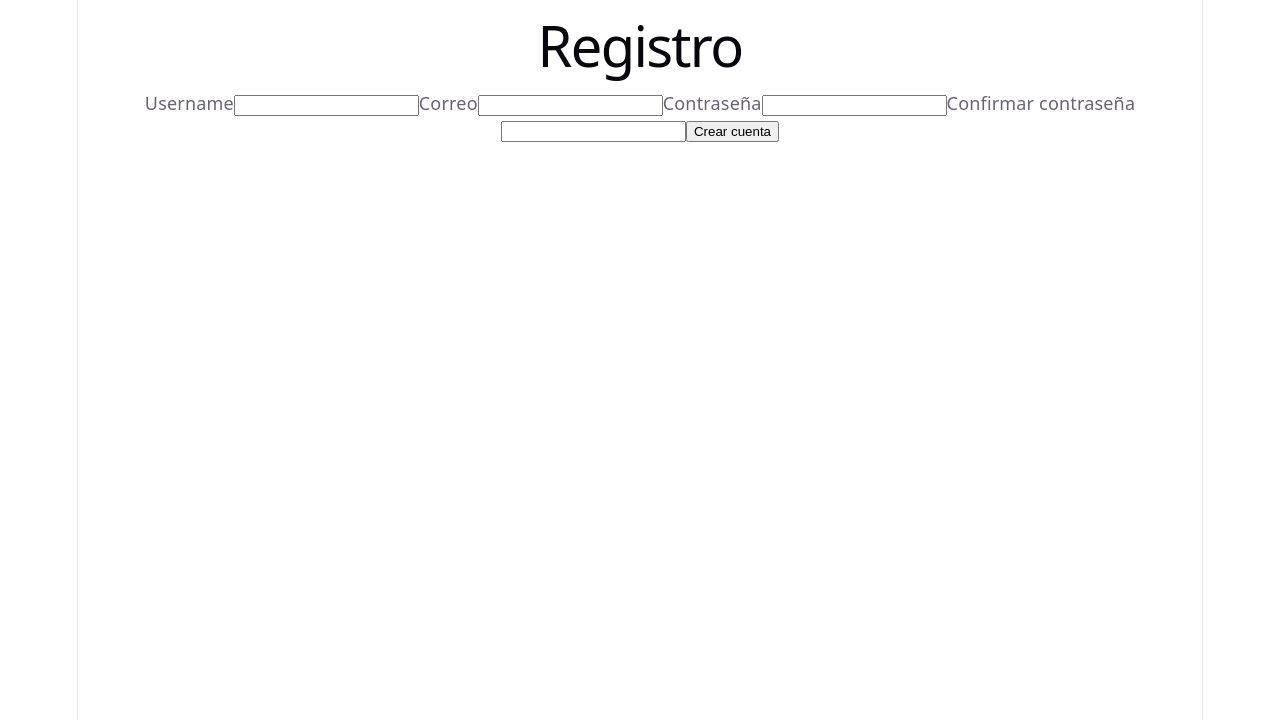
Frontend pages › RegisterPage bloquea contraseñas distintas
Type "nuevo" into the field labelled "Username" at (326, 106), box [234,95,419,116]
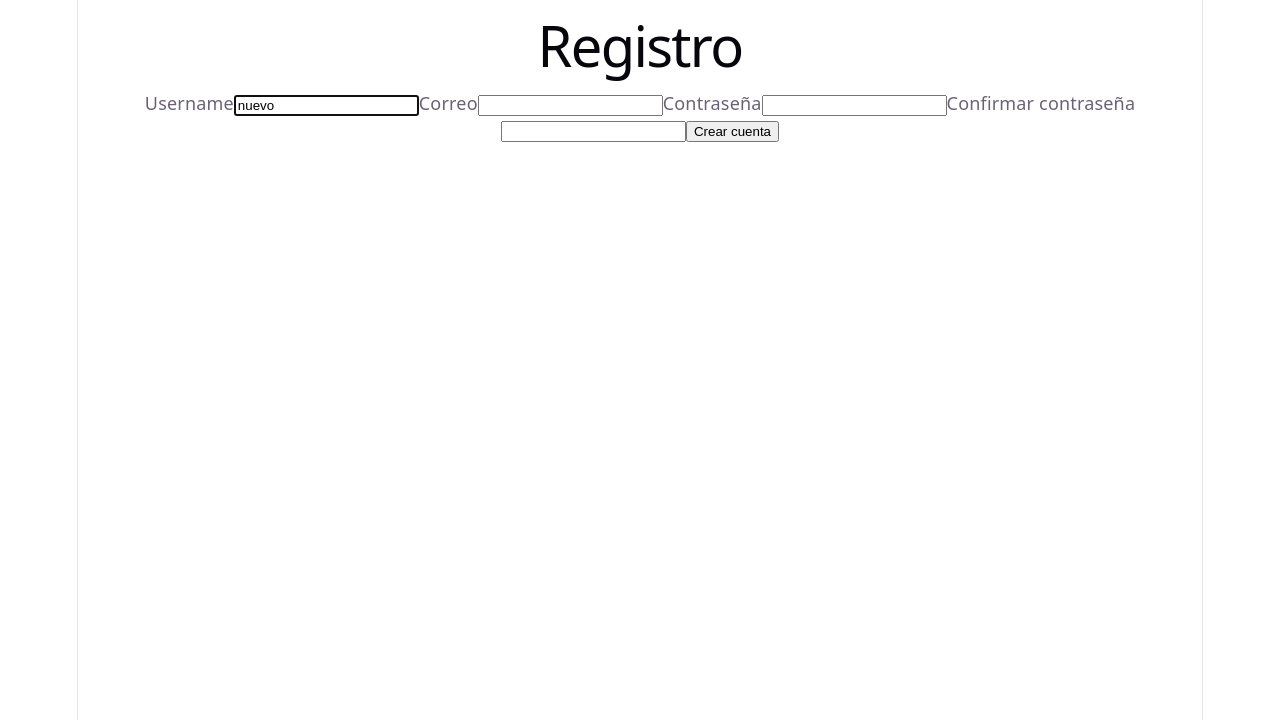
Type "nuevo@test.com" into the field labelled "Correo" at (570, 106), box [478,95,663,116]
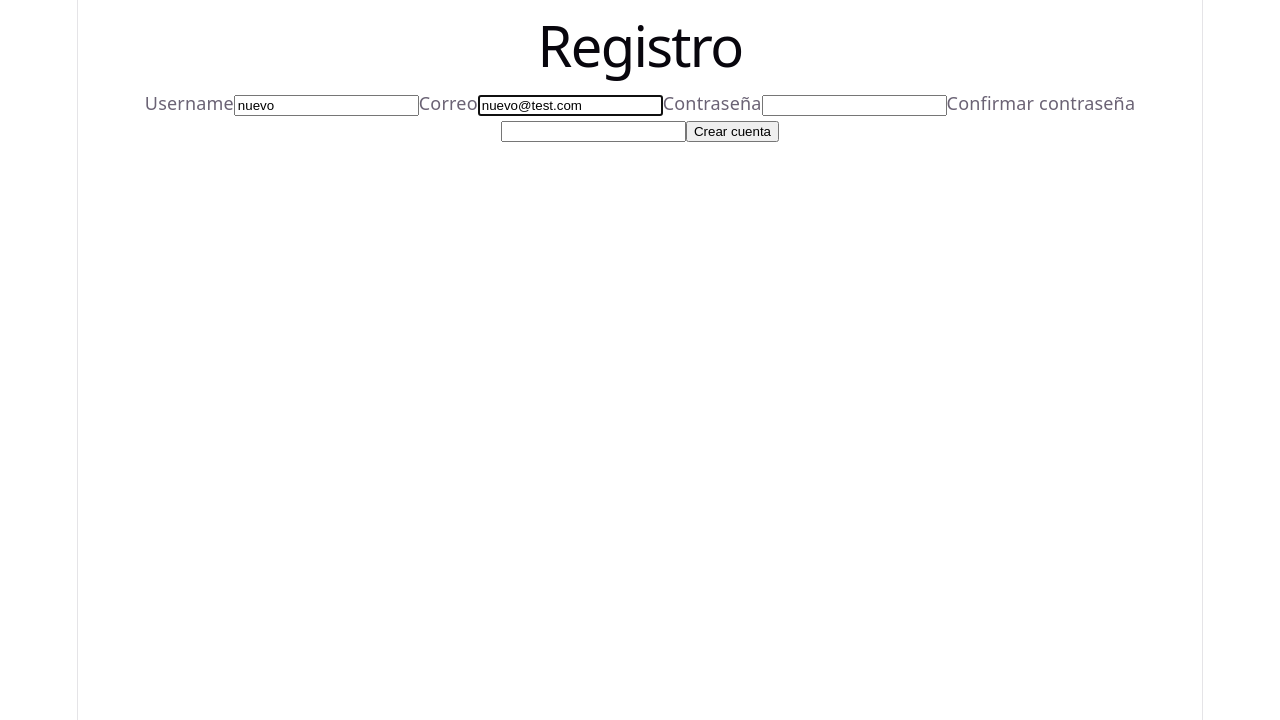
Type "1234" into the password field labelled "Contraseña" at (854, 106), box [762,95,947,116]
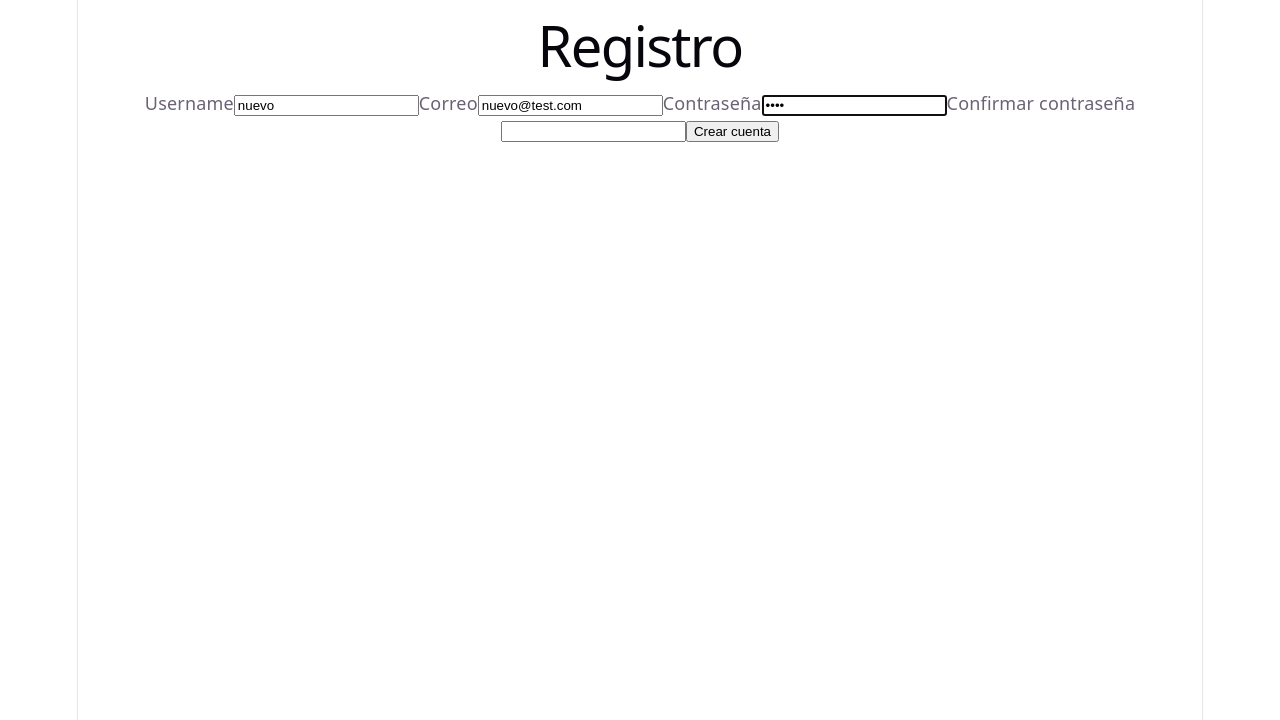
Type "4321" into the password field labelled "Confirmar contraseña" at (594, 132), box [501,121,686,142]
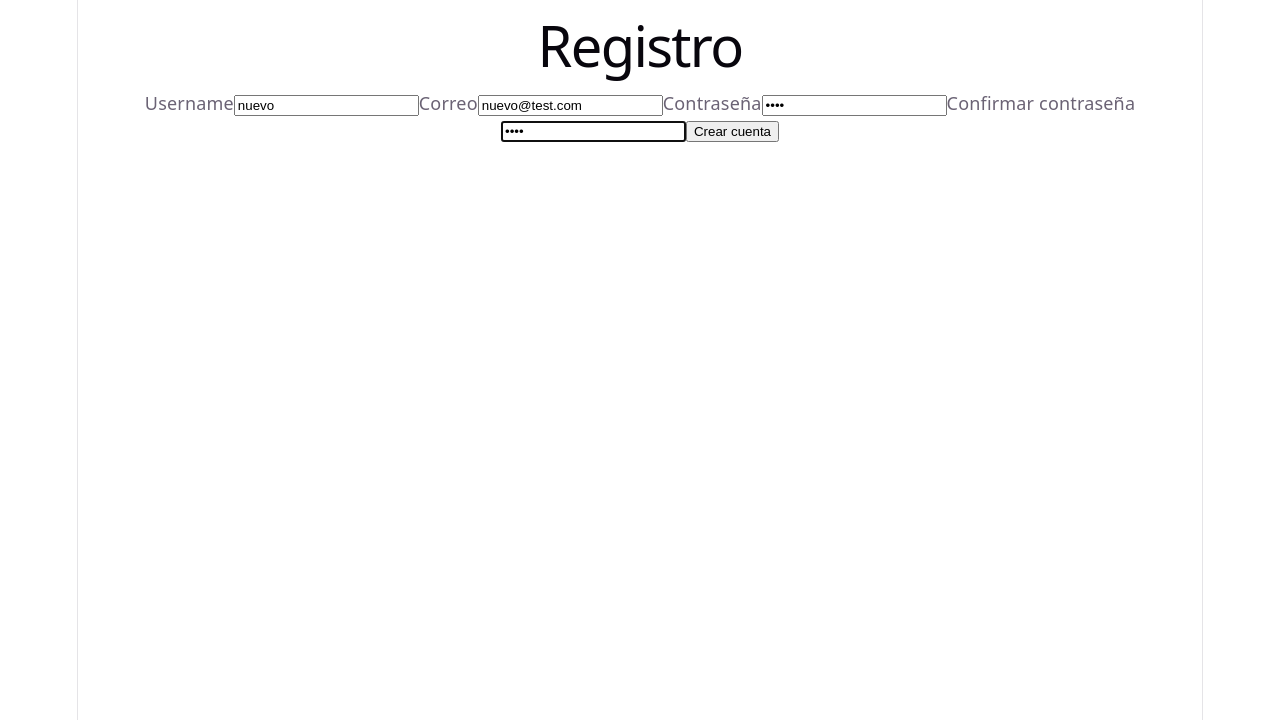
Click the button "Crear cuenta" at (732, 132), box [686,121,779,142]
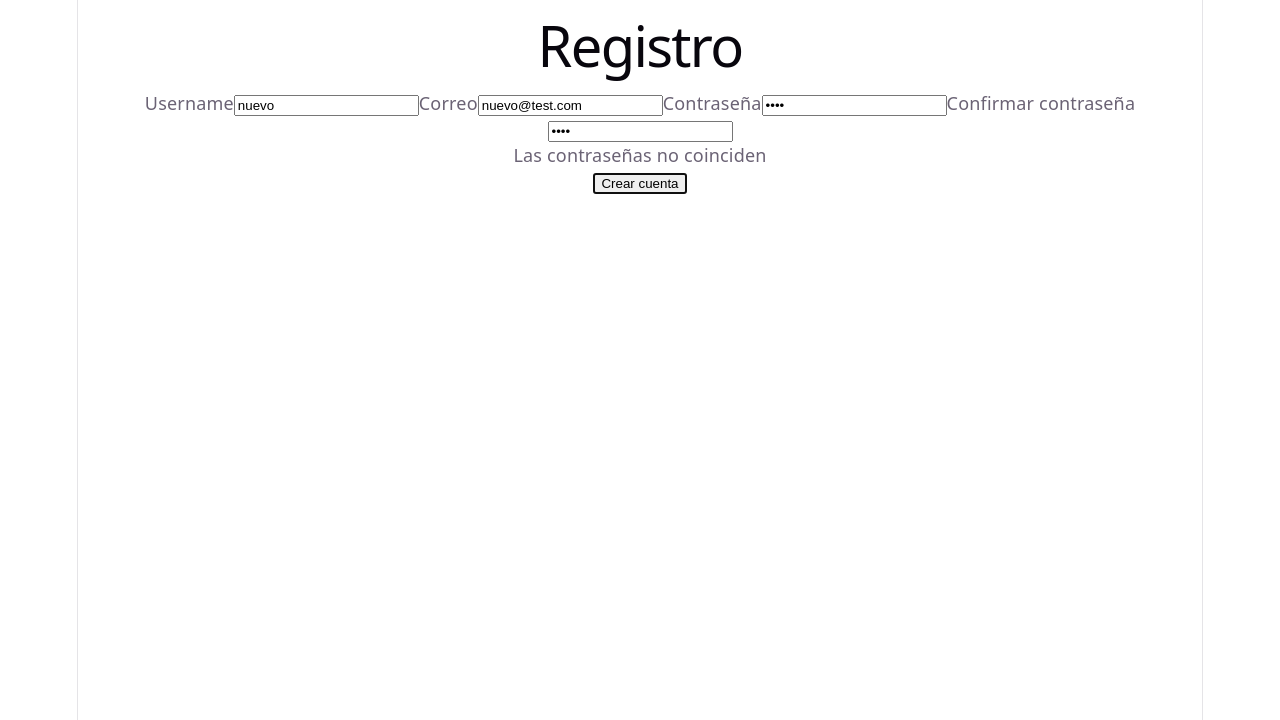
Now the text "Las contraseñas no coinciden" is shown, box [513,143,766,167]
